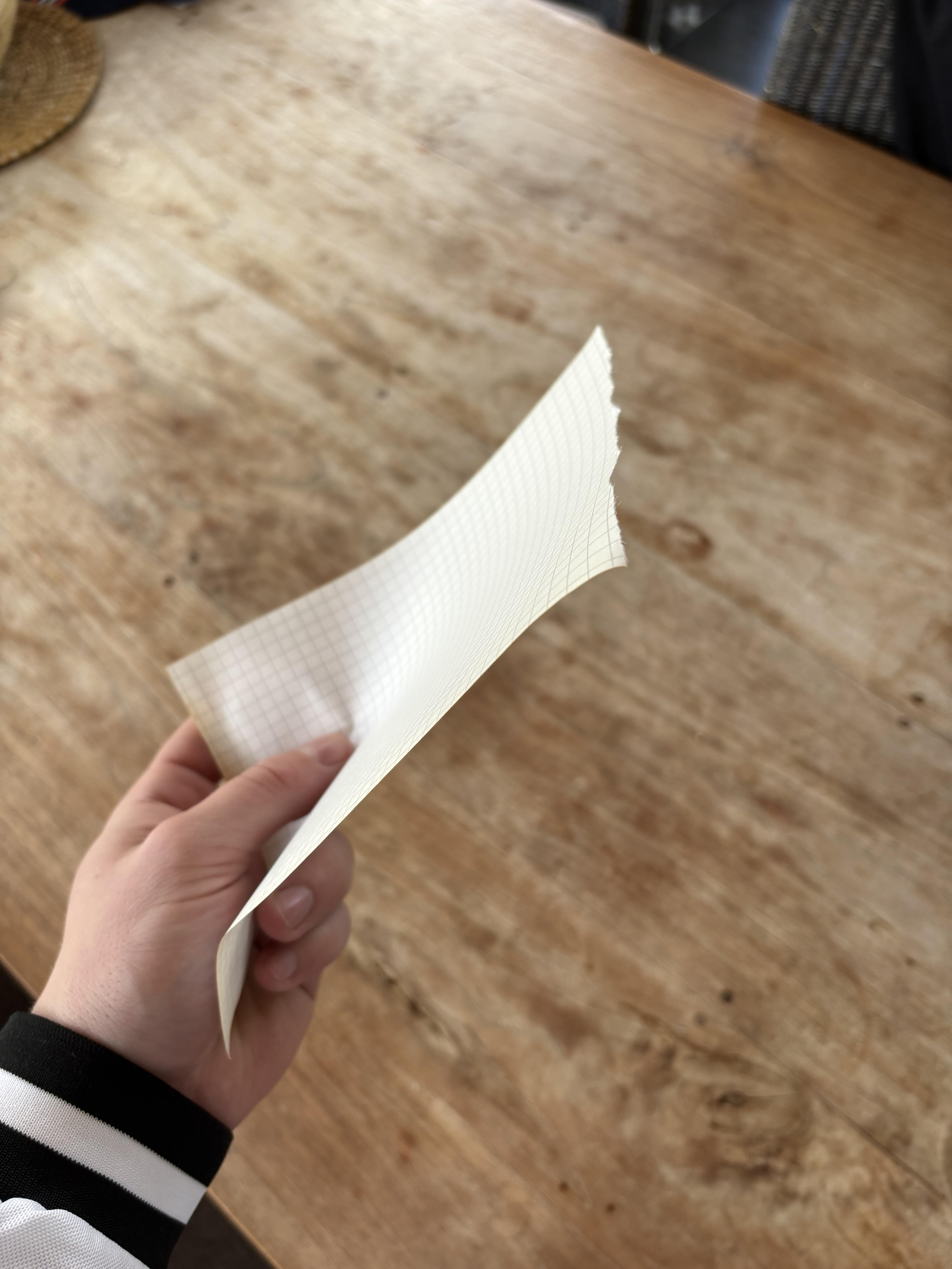Paper: (162, 327, 643, 1057)
